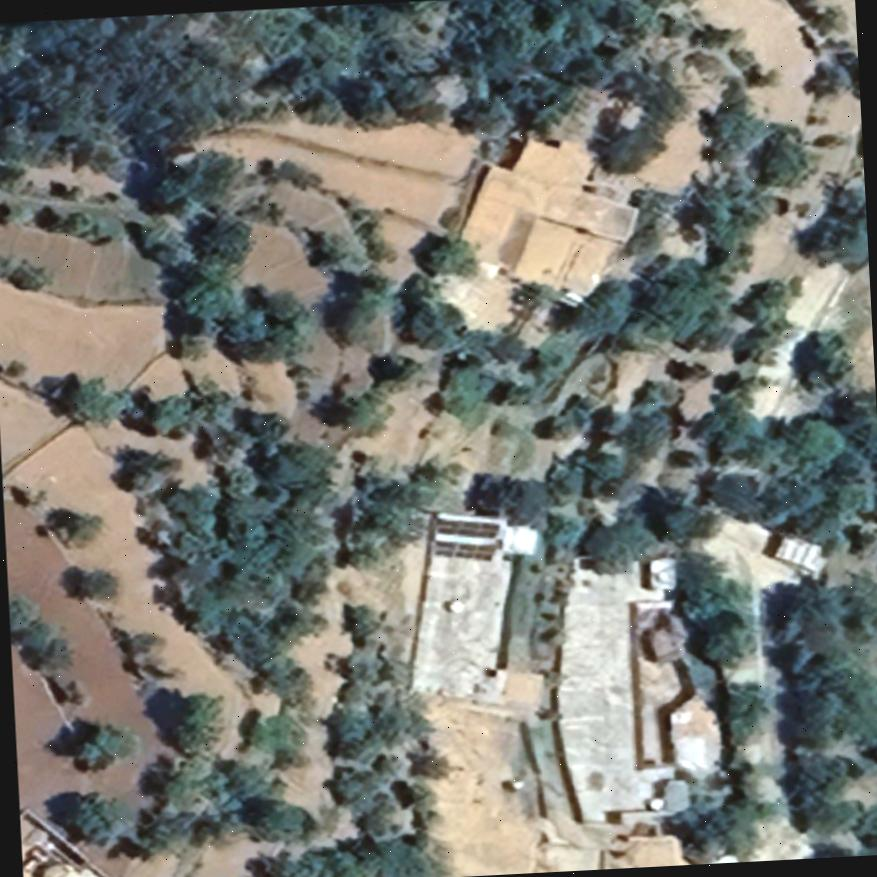Solarpanel: (428, 533, 500, 565), (430, 511, 503, 542)
